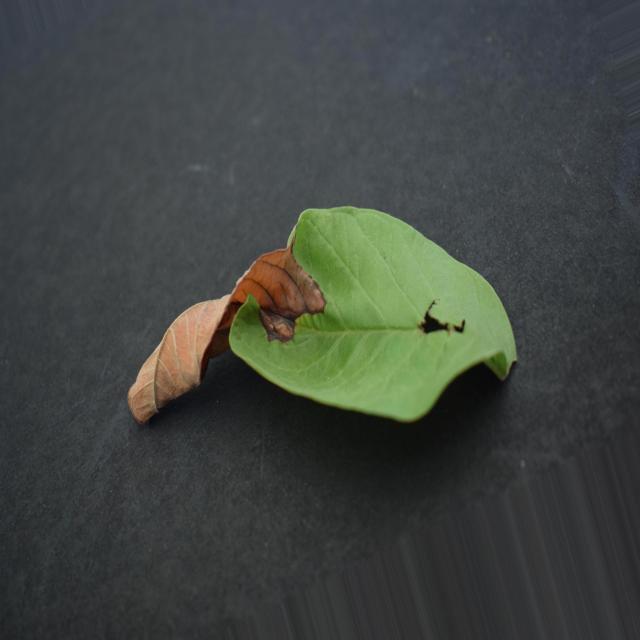Mummification: (128, 206, 516, 424)
